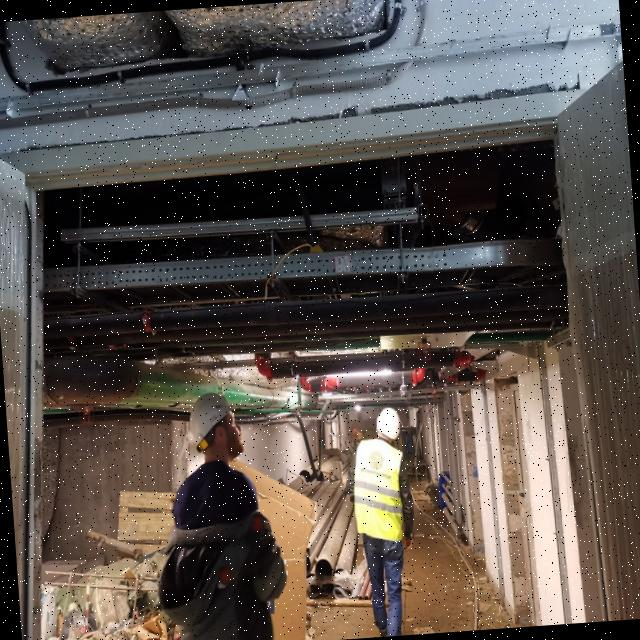Helmet: (185, 391, 247, 440), (376, 406, 404, 442)
Jacket: (351, 436, 413, 543)
NoJacket: (169, 440, 267, 640)
